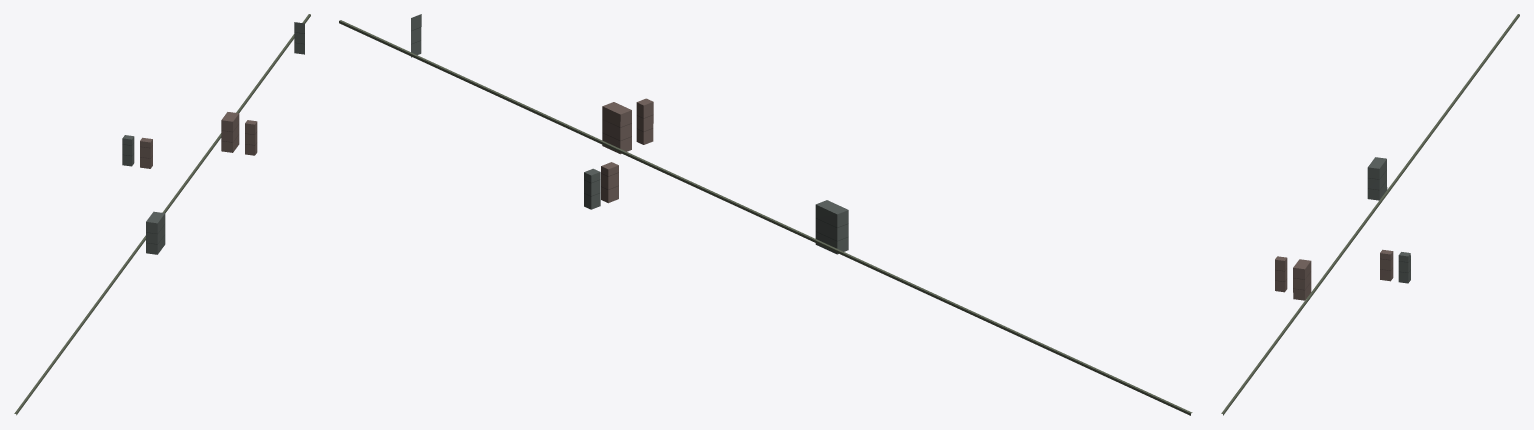
File: terminal-89---21_18.glb
3 views of the same model, side by side, from view 1: azimuth 90°, elevation 25°; view 2: azimuth 150°, elevation 25°; view 3: azimuth 270°, elevation 25° (orthographic). The views are drawn at different scales.
Parts seen in each view (by area): view 1: measured-industrial; view 2: measured-industrial; view 3: measured-industrial.
Part boxes in pixels (box(x1,y1,x2,y2)): measured-industrial: box(14, 14, 310, 415); measured-industrial: box(339, 14, 1192, 415); measured-industrial: box(1221, 14, 1519, 415).
Size of the model in its own units: 225 by 8.5 by 70.75.
